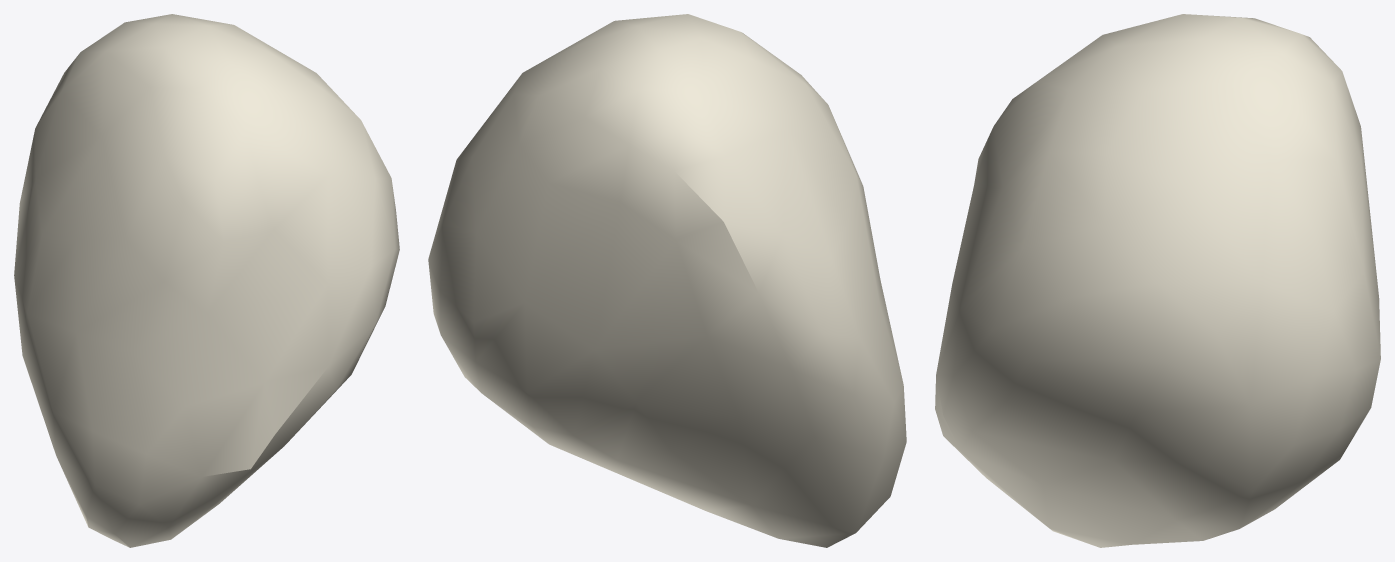
The model's file is fma23525_mm1886.glb.
3 renders of one model, left to right at view 1: azimuth 30°, elevation 25°; view 2: azimuth 150°, elevation 25°; view 3: azimuth 270°, elevation 25°, orthographic. The views are drawn at different scales.
Parts seen in each view (by area): view 1: FMA23525_MM1886; view 2: FMA23525_MM1886; view 3: FMA23525_MM1886.
Boxes of the visible parts, x1=… form: FMA23525_MM1886: x1=14, y1=14, x2=399, y2=547; FMA23525_MM1886: x1=428, y1=14, x2=906, y2=547; FMA23525_MM1886: x1=935, y1=14, x2=1380, y2=547.
Size of the model in its own units: 0.0115 by 0.0144 by 0.0104.
